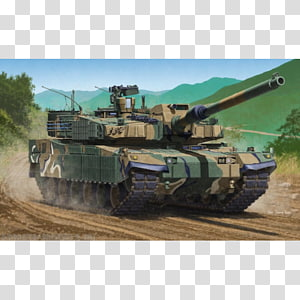Battle Tank: (27, 75, 287, 219)
